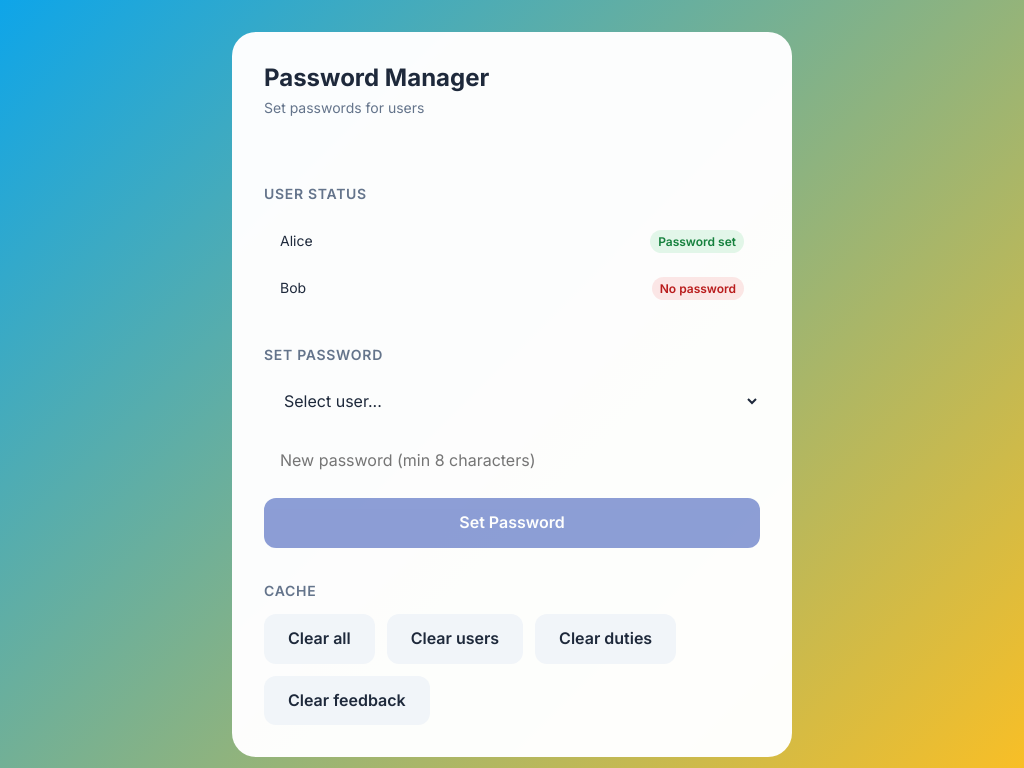
AdminPasswords — set password form › shows an error on 403 from set-password
Expected: the text "Password set" is shown, [650, 230, 744, 253]
Select "Alice" in the dropdown: x=512, y=401 [264, 378, 760, 424]
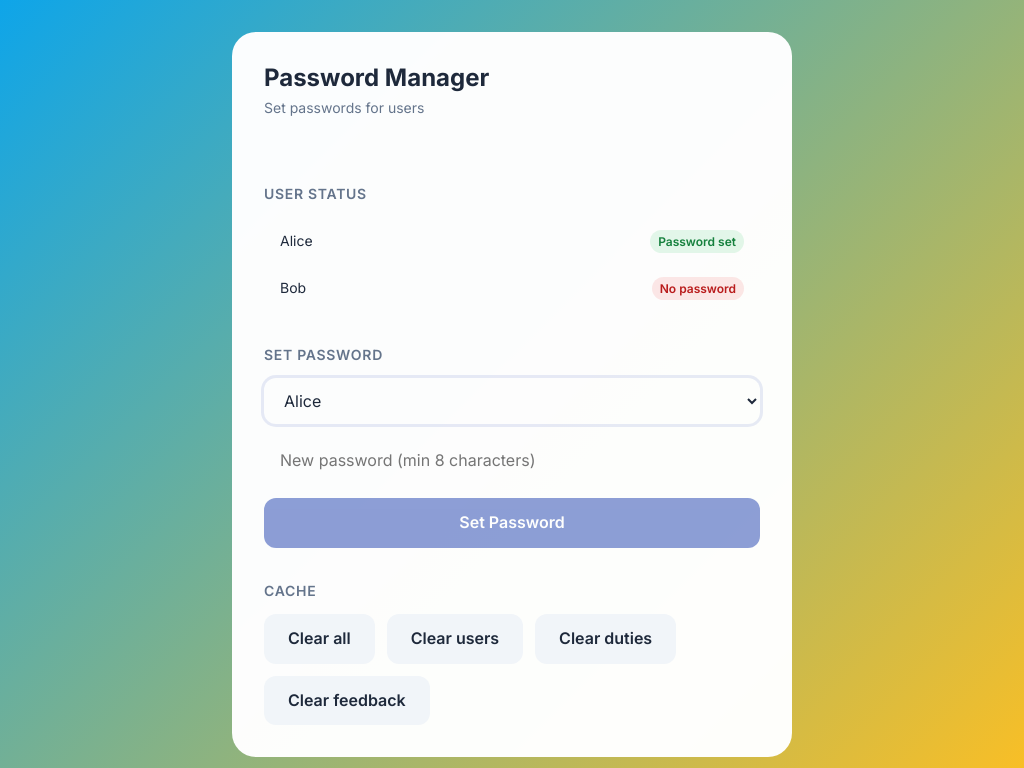
In the password field with placeholder "New password (min 8 characters)": x=512, y=461 [264, 436, 760, 486], type "validpassword"
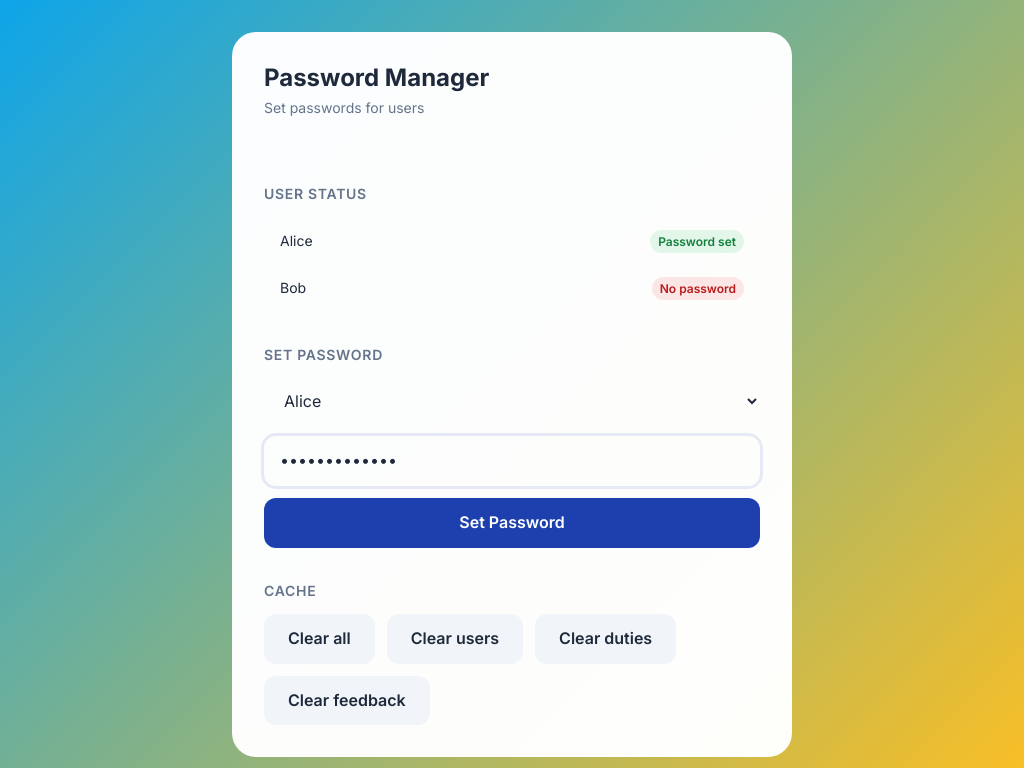
Click the button "Set Password": x=512, y=523 [264, 498, 760, 548]
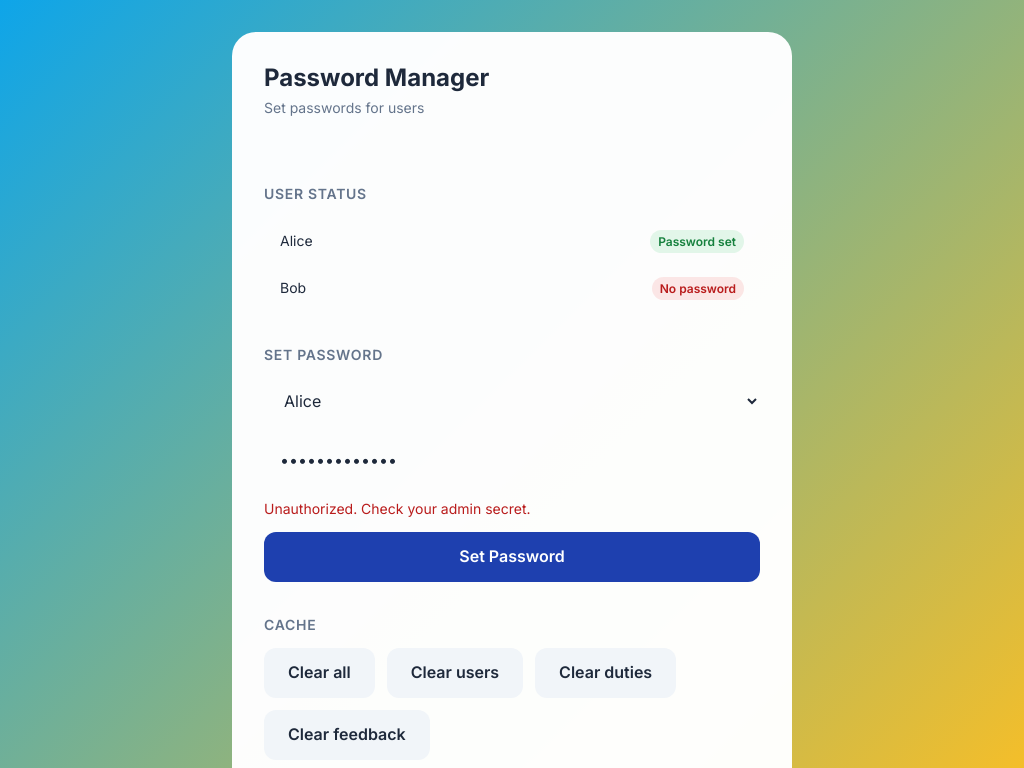
Result: the text "Unauthorized. Check your admin secret." is shown at [264, 500, 530, 517]
